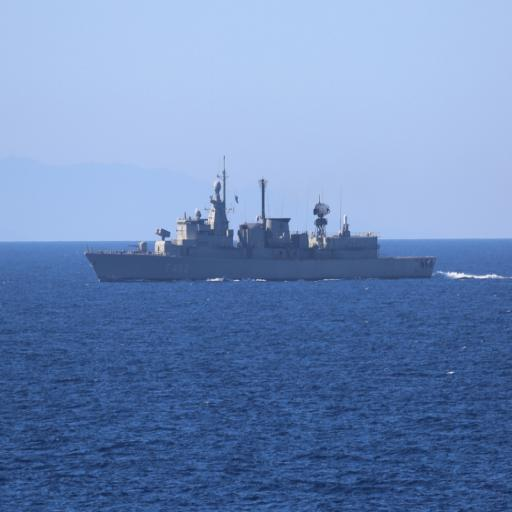Fragata: (84, 146, 439, 287)
